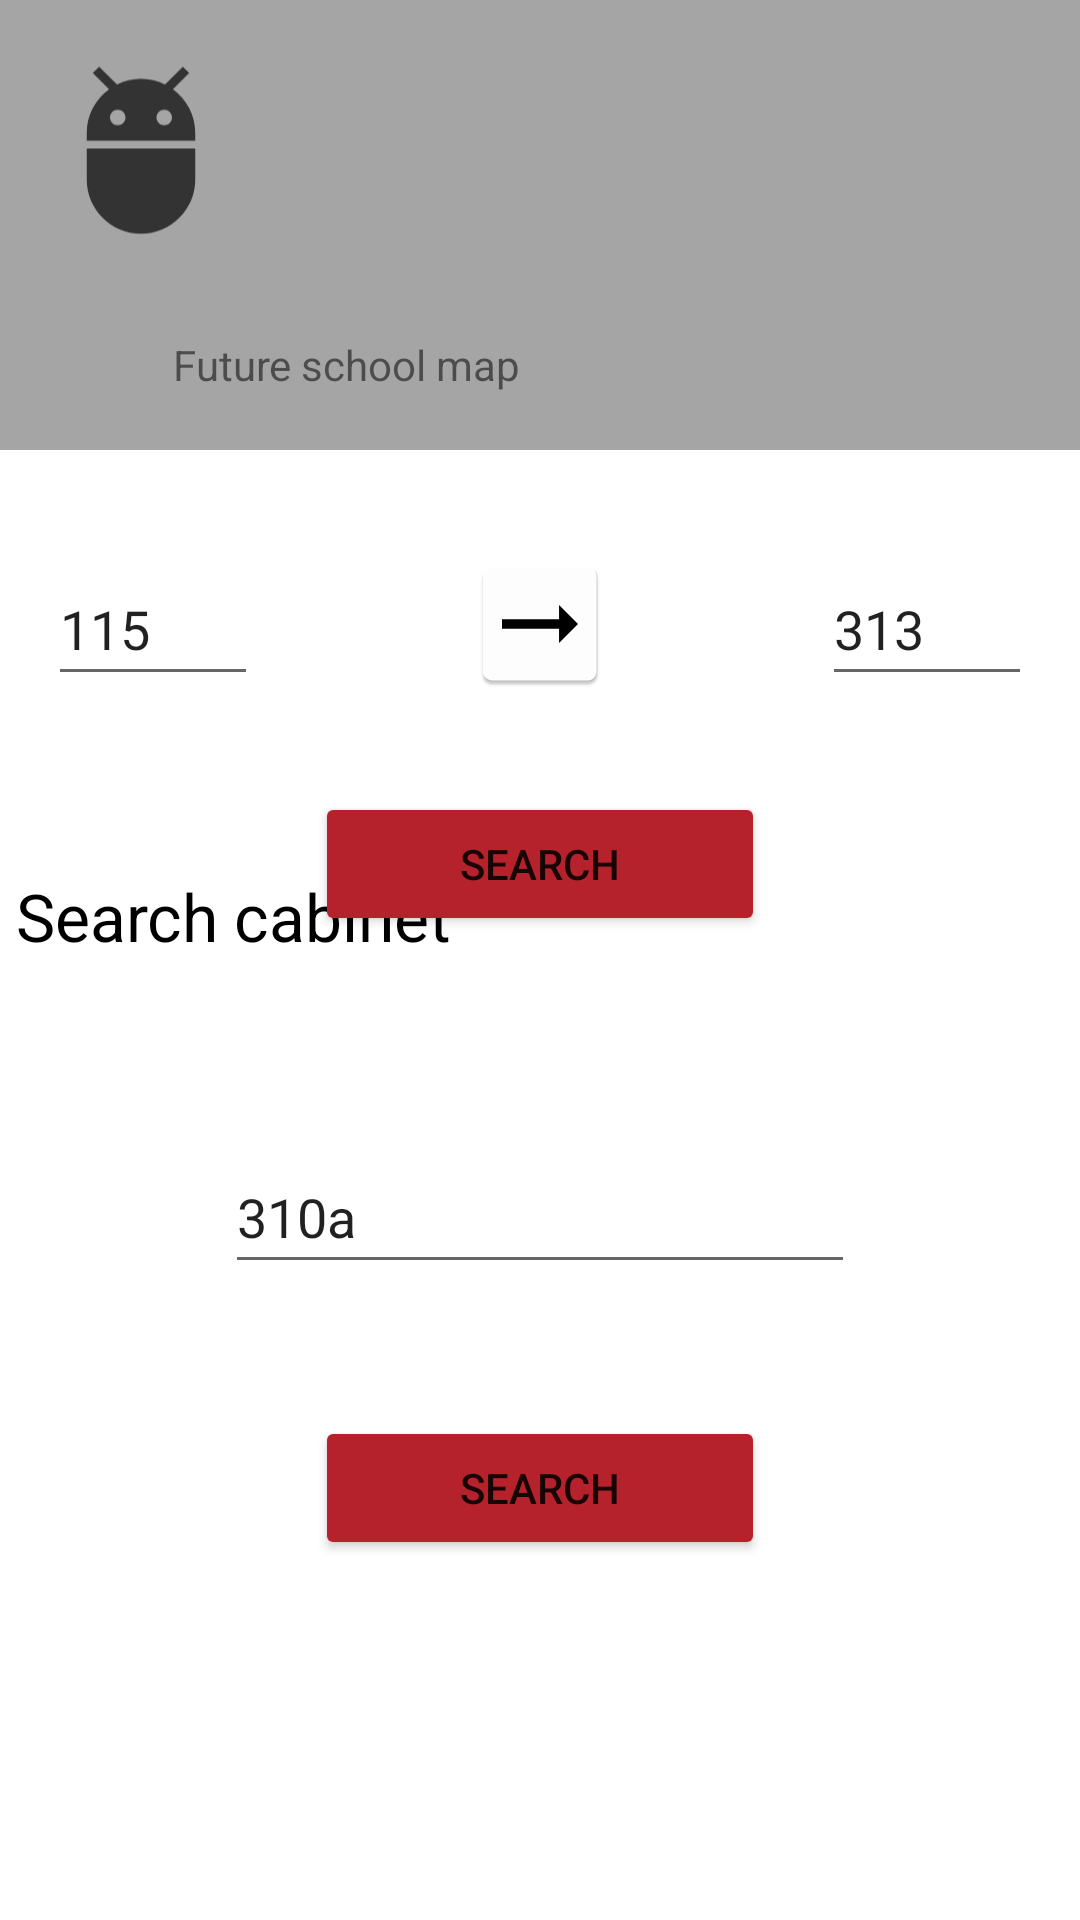

Where icons sit on this 1080 × 1920 app screen, as (x1, y1, x2, y2):
arrow rigth: (483, 573, 598, 685)
